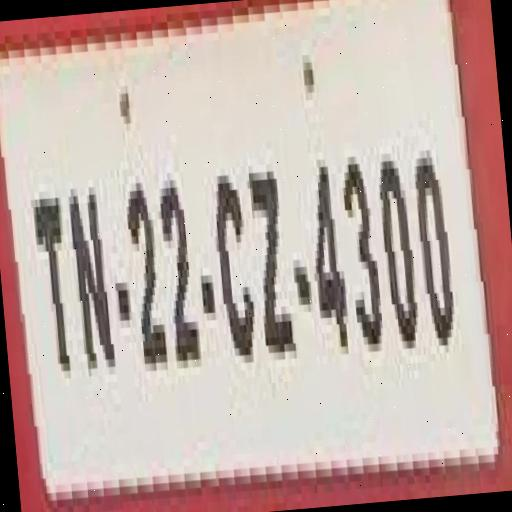number plate: (0, 0, 493, 487)
